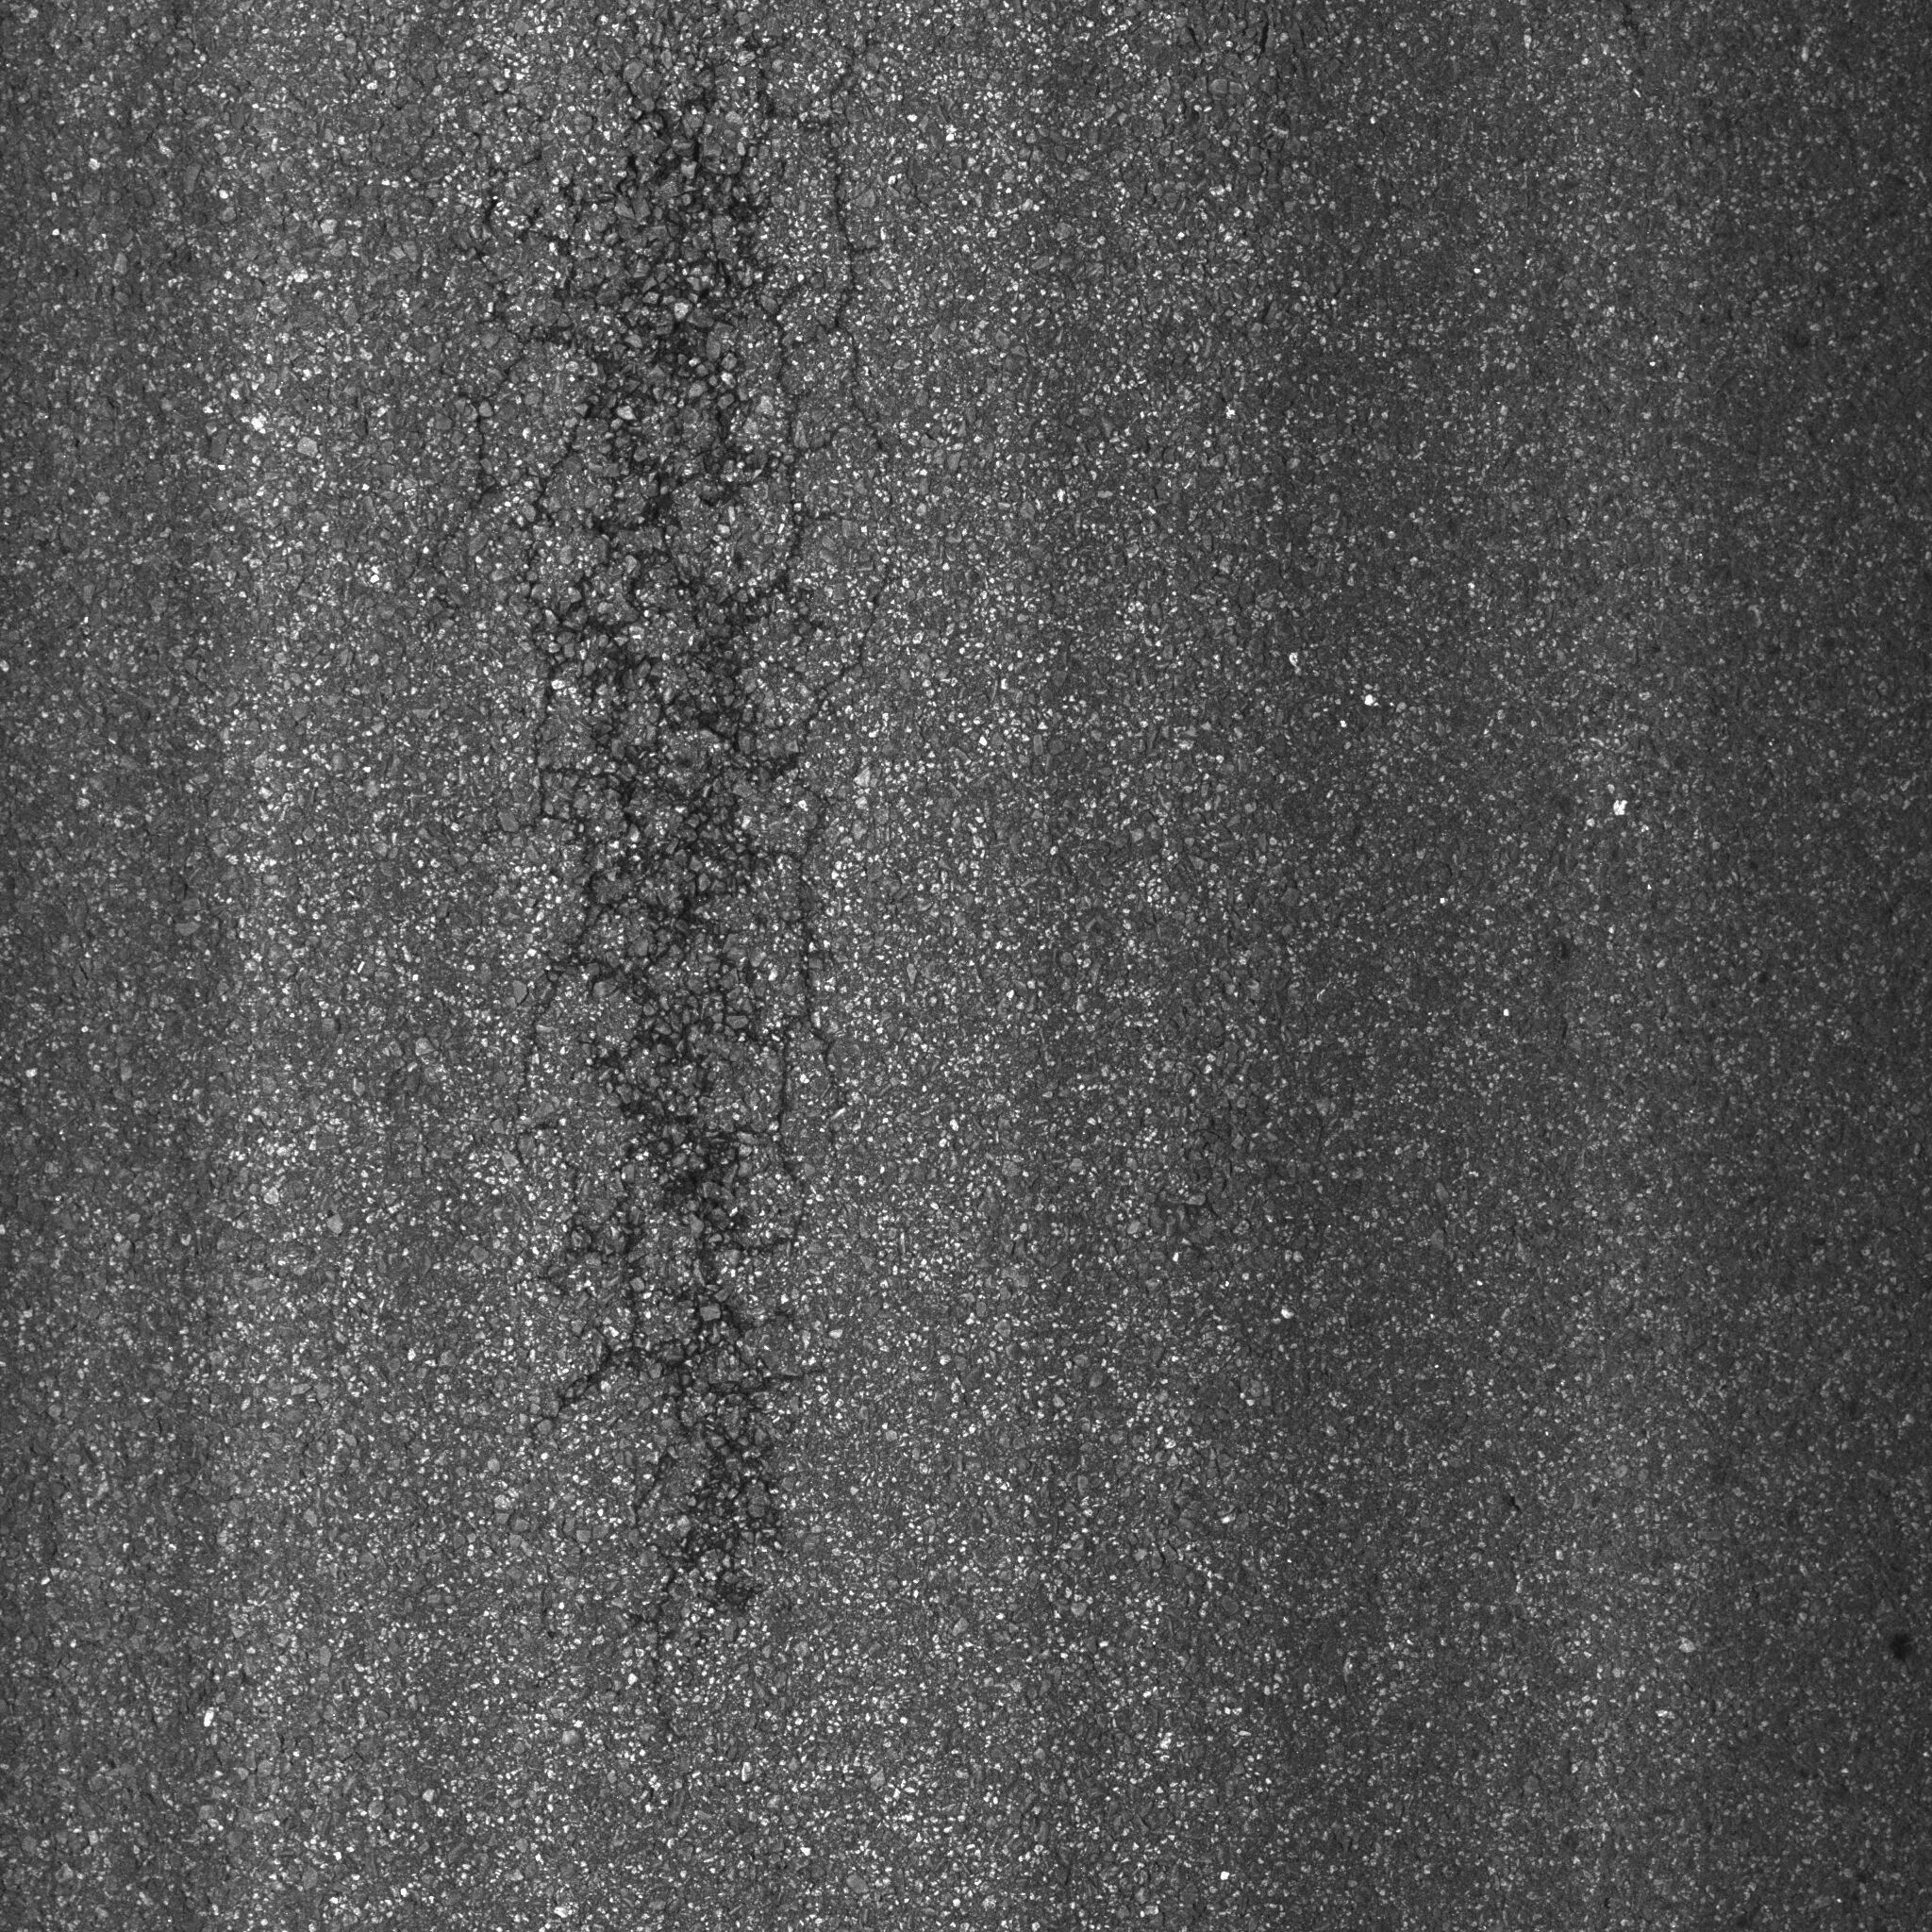alligator: (407, 16, 950, 1683)
